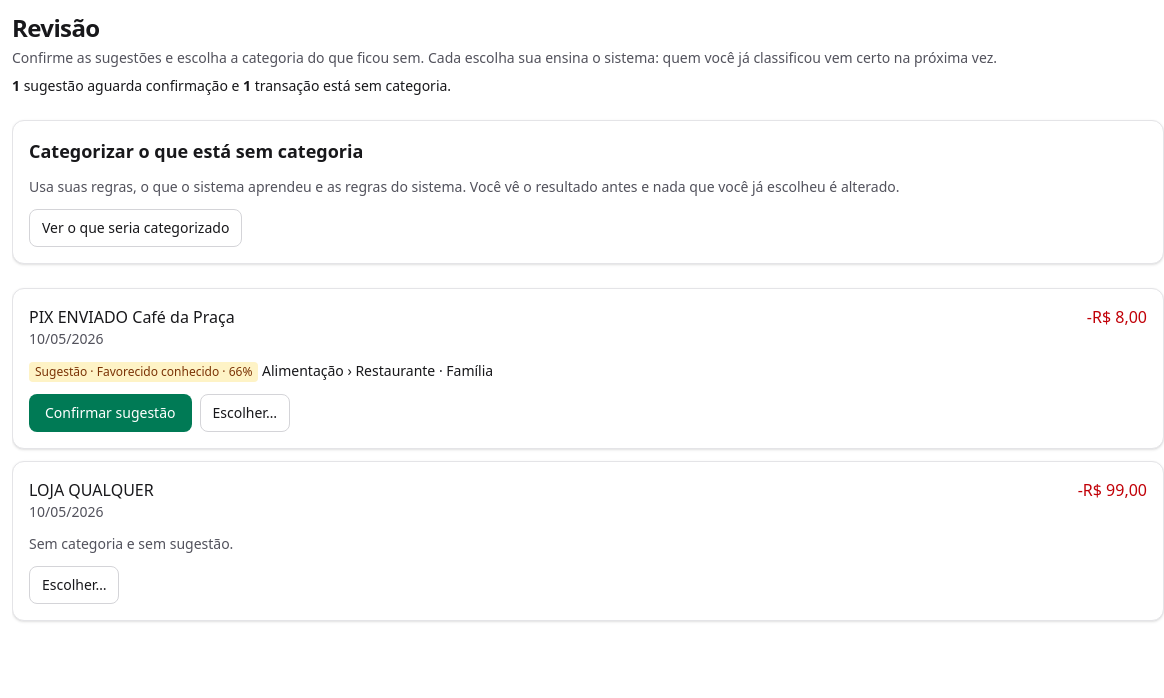
Test: ReviewView › só quem tem sugestão ganha 'Confirmar'; escolher abre o editor já com a sugestão
Expected: the text "LOJA QUALQUER" is shown, left=29, top=478, right=154, bottom=502
Click the button with aria-label "Escolher a categoria de PIX ENVIADO Café da Praça". click: (245, 413)
box: left=200, top=394, right=290, bottom=432
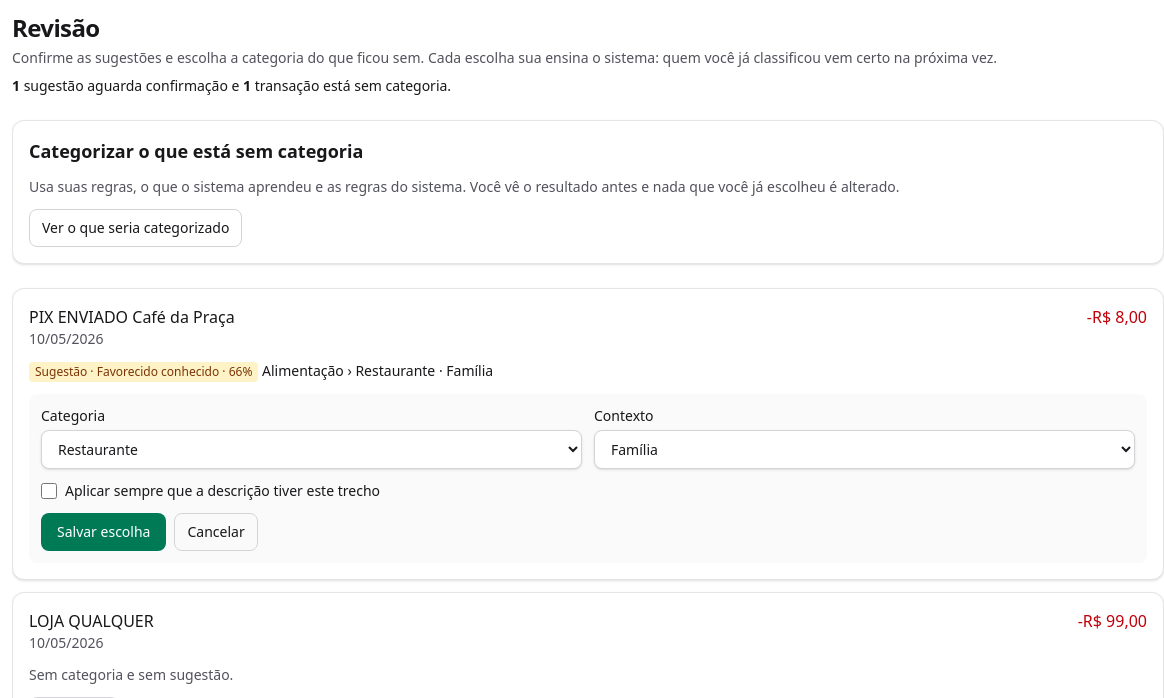
Result: the dropdown named "Categoria de PIX ENVIADO Café da Praça" shows "Restaurante" at left=41, top=430, right=582, bottom=469
Result: the dropdown named "Contexto de PIX ENVIADO Café da Praça" shows "Família" at left=594, top=430, right=1135, bottom=469
